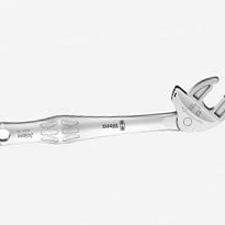Wrench: (1, 73, 225, 143)
